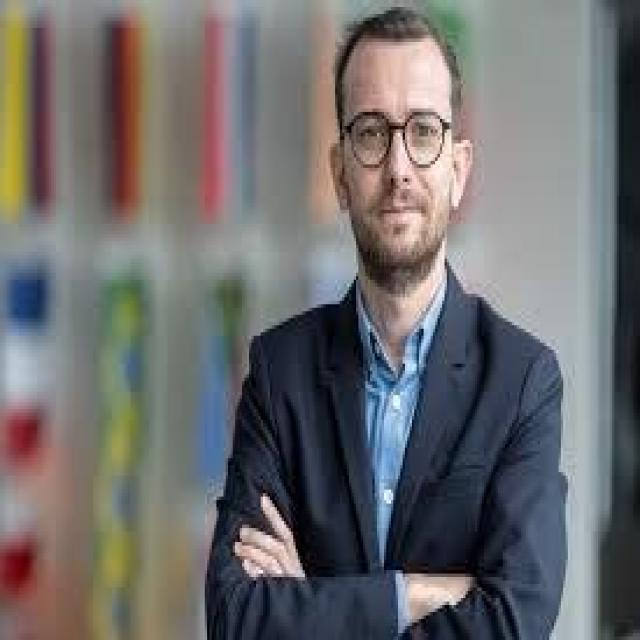person: (175, 7, 612, 636)
